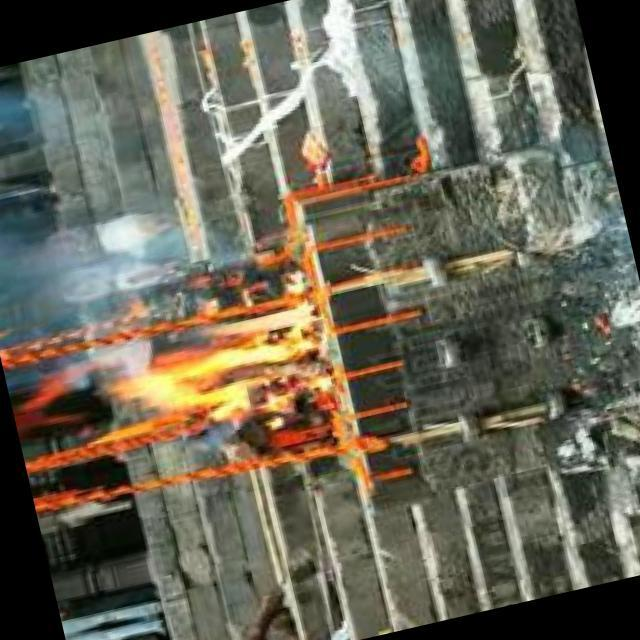Fire: (101, 292, 343, 446)
